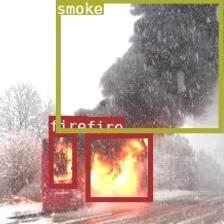fire: (85, 132, 152, 202), (49, 131, 76, 188)
smoke: (54, 0, 222, 132)
